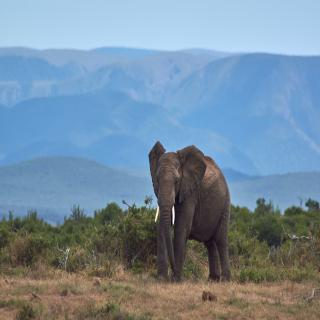Elephant: (144, 138, 235, 286)
